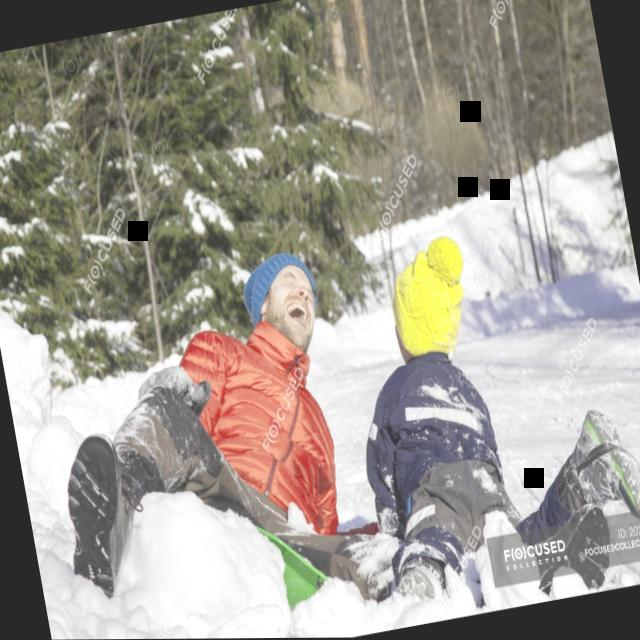Fall-Detected: (1, 201, 424, 640)
